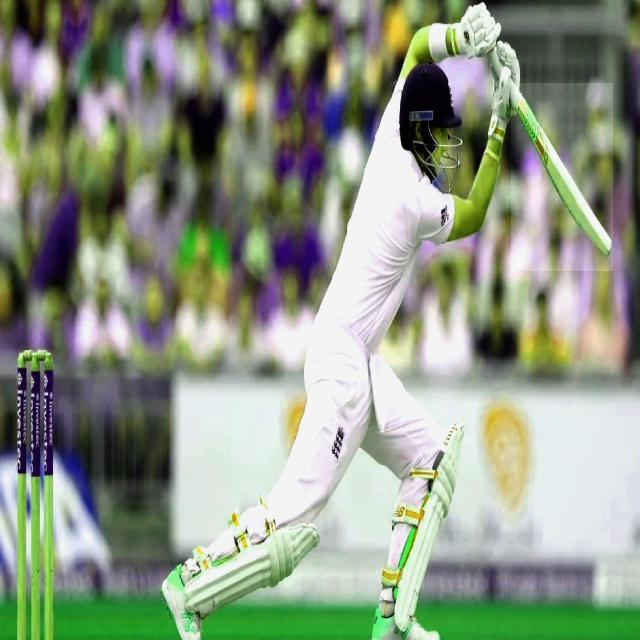bat: (516, 84, 614, 267)
toe: (602, 241, 614, 264)
